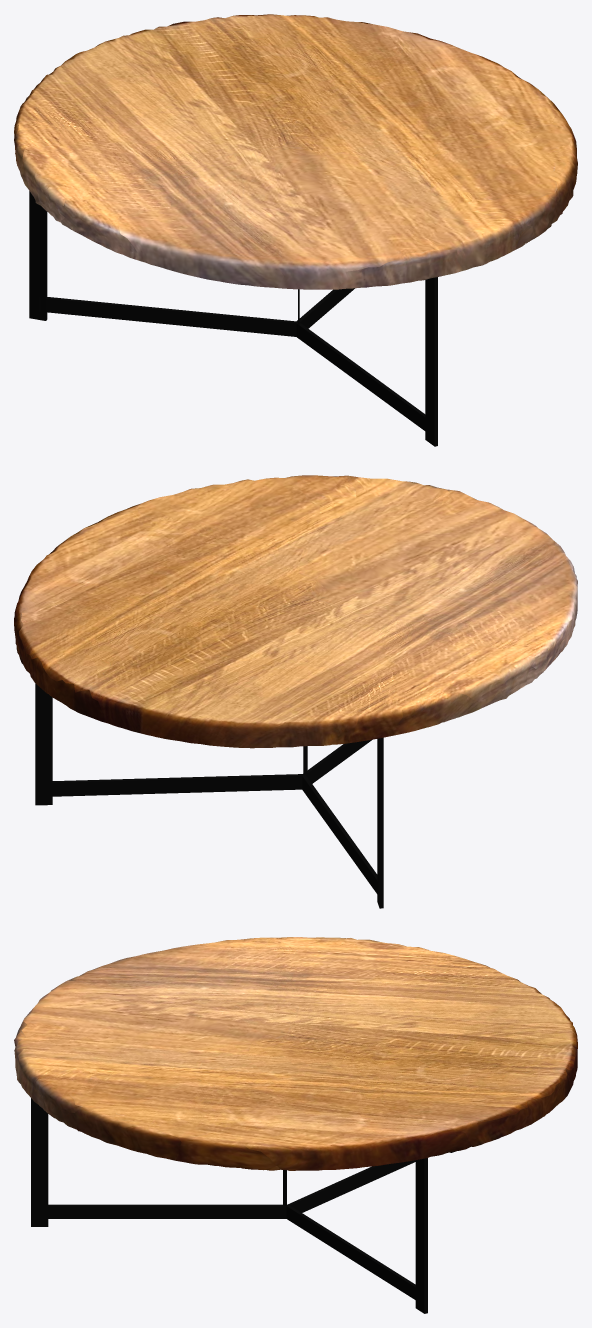
File: living2.glb
The picture shows the model from 3 angles, top to bottom: view 1: azimuth 30°, elevation 25°; view 2: azimuth 150°, elevation 25°; view 3: azimuth 270°, elevation 25°; orthographic projection. The views are drawn at different scales.
Visible parts, largest first — view 1: unnamed 2_4, object 7, object 6, object 4, object 9, object 8; view 2: unnamed 2_4, object 8, object 5, object 7, object 4, object 6; view 3: unnamed 2_4, object 6, object 8, object 9, object 5, object 7.
Part boxes in pixels (x1,y1,x2,y2): unnamed 2_4: (14,14,577,289); object 7: (39,297,297,336); object 6: (296,323,425,430); object 4: (29,191,47,320); object 9: (425,277,437,446); object 8: (297,288,354,328); unnamed 2_4: (14,475,577,748); object 8: (43,774,303,796); object 5: (35,683,52,805); object 7: (302,774,377,894); object 4: (377,737,383,908); object 6: (305,739,372,783); unnamed 2_4: (14,937,577,1170); object 6: (39,1204,286,1218); object 8: (286,1205,415,1299); object 9: (31,1098,48,1226); object 5: (415,1158,427,1313); object 7: (287,1160,415,1212).
Bounding box in the file's own units: 0.7363 × 0.2998 × 0.8171.
2 materials, 1 textured.
